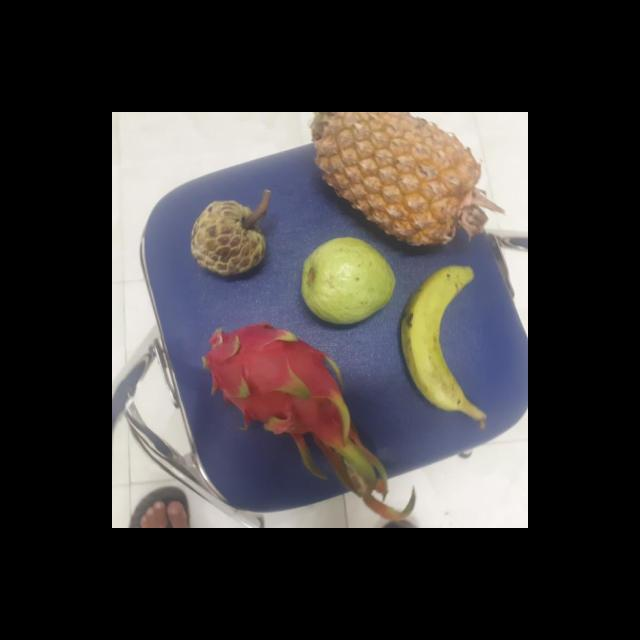Sakya fruit: (188, 199, 266, 278)
banana: (397, 264, 479, 414)
guava: (298, 234, 396, 324)
pineapple: (316, 117, 486, 250)
pitaya: (198, 322, 346, 438)
